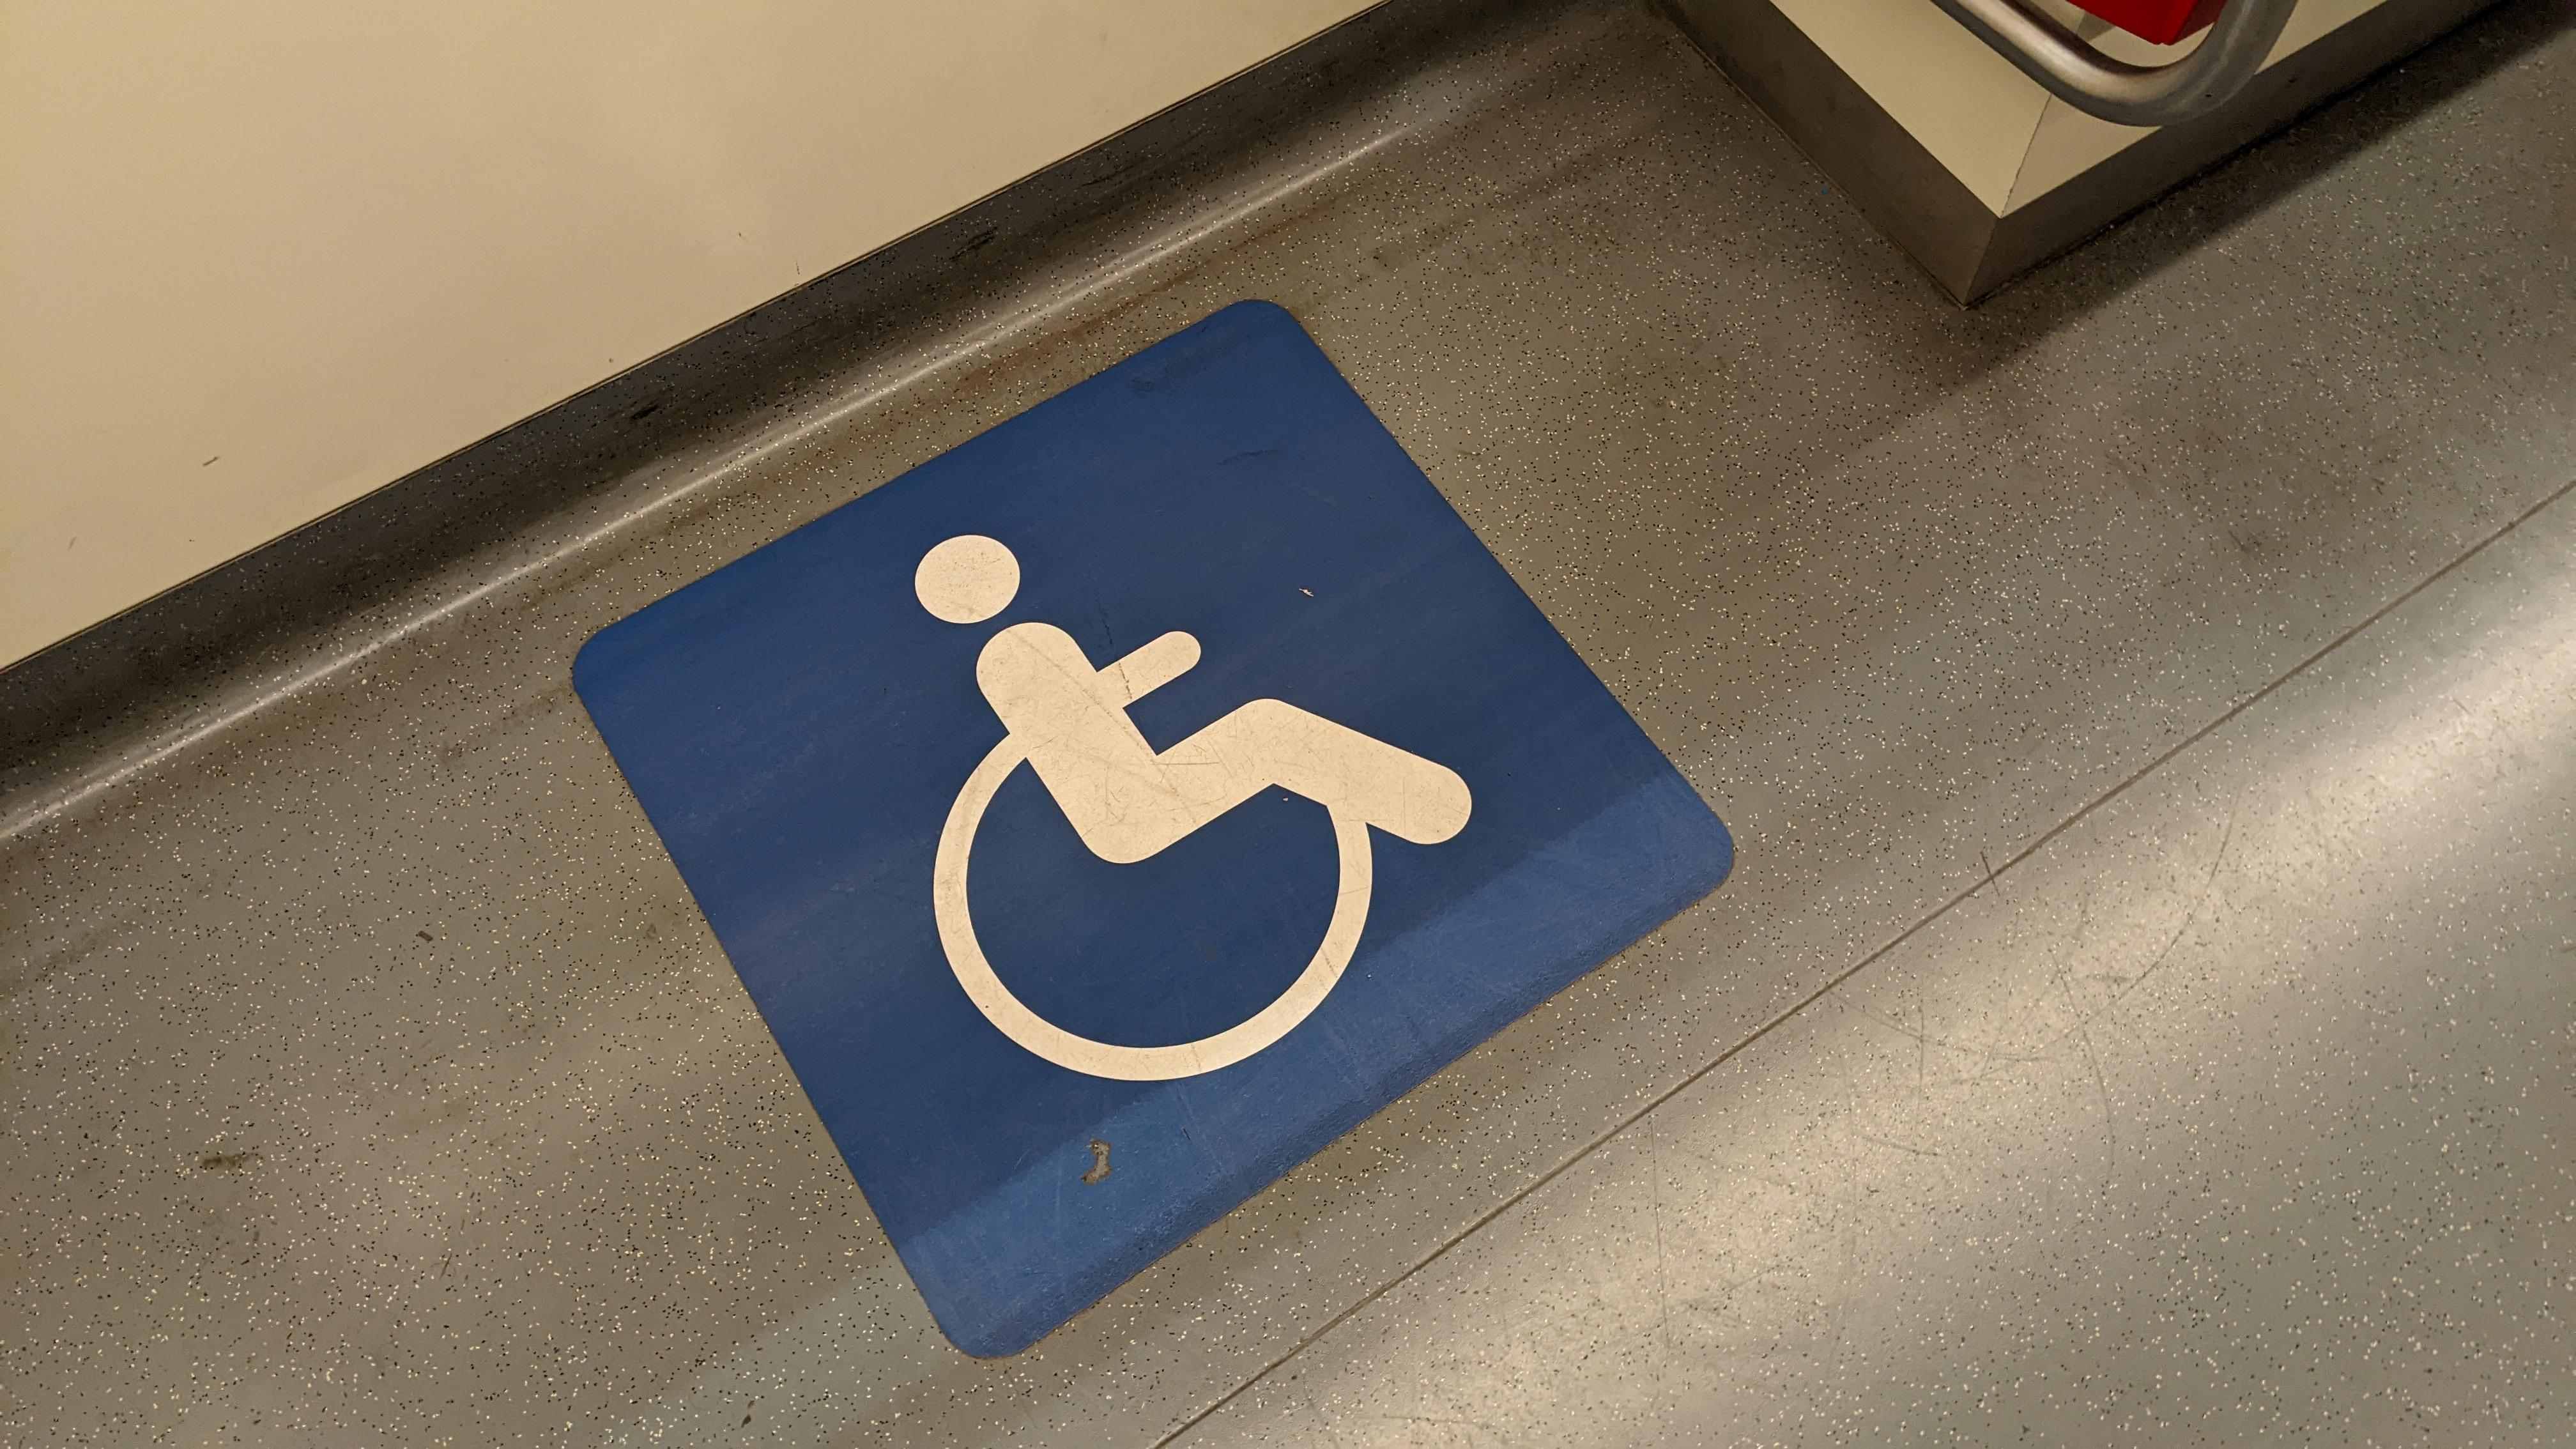handicapped symbol: (910, 524, 1476, 1091)
